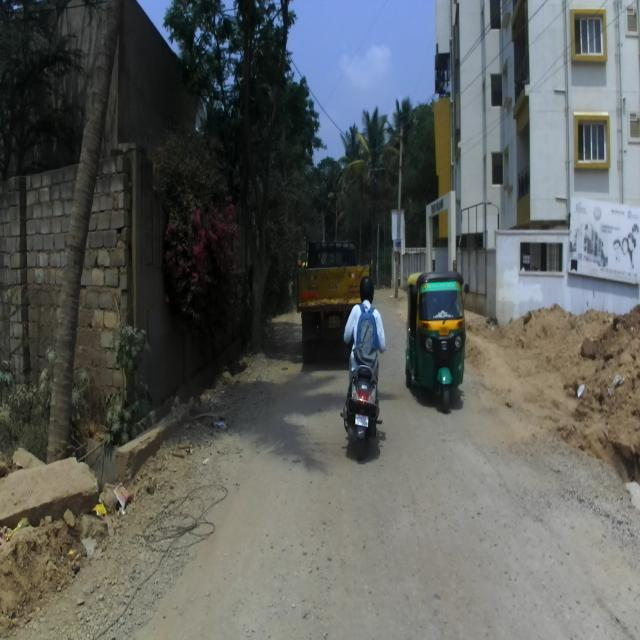auto ahead at: (408, 262, 471, 432)
motorcycle ahead at: (345, 359, 385, 452)
